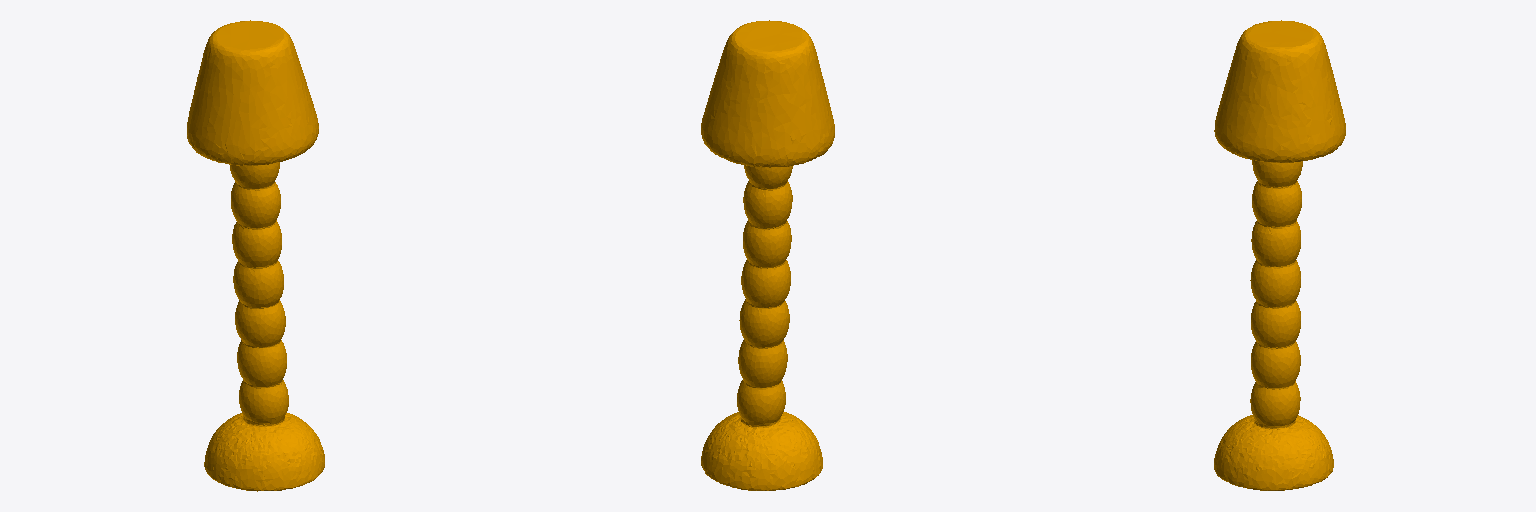
URDF robot description (3D_Dollhouse_Lamp):
<?xml version="1.0"?>
<robot name="3D_Dollhouse_Lamp">
  <link name="base_link">
    <contact>
      <lateral_friction value="1.0"/>
      <rolling_friction value="0.0"/>
      <contact_cfm value="0.0"/>
      <contact_erp value="1.0"/>
    </contact>
    <inertial>
      <mass value="0.752931167962"/>
      <inertia ixx="1" ixy="0" ixz="0" iyy="1" iyz="0" izz="1"/>
    </inertial>
    <visual>
      <geometry>
        <mesh filename="3D_Dollhouse_Lamp_visual.obj"/>
      </geometry>
    </visual>
    <collision>
      <geometry>
        <mesh filename="3D_Dollhouse_Lamp_collision.obj"/>
      </geometry>
    </collision>
  </link>
</robot>

--- Render facts (derived) ---
Views: 3 orthographic renders of the robot side by side, from view 1: azimuth 30°, elevation 25°; view 2: azimuth 150°, elevation 25°; view 3: azimuth 270°, elevation 25°.
Robot: 3D_Dollhouse_Lamp — 1 links, 0 joints (none); root link base_link; default pose: every joint at zero.
Links seen in each view (by area): view 1: base_link; view 2: base_link; view 3: base_link.
Link boxes in pixels (bbox=[...]): base_link: bbox=[187, 20, 324, 491]; base_link: bbox=[701, 20, 834, 490]; base_link: bbox=[1214, 20, 1345, 490].
Size in the robot's own frame: 0.0793 by 0.077 by 0.2756 metres.
Meshes: 1 distinct files referenced, 1 mesh visuals loaded (1 OBJ).